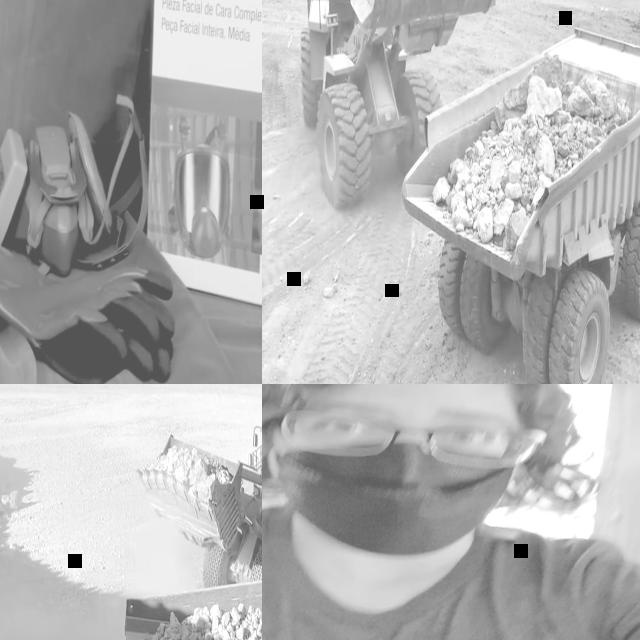Mask: (265, 440, 521, 556), (0, 105, 115, 273)
NO-Safety Vest: (262, 504, 640, 640)
Person: (262, 384, 640, 640)
machinery: (399, 16, 640, 384), (298, 0, 512, 214), (134, 399, 262, 611), (120, 529, 262, 640)
